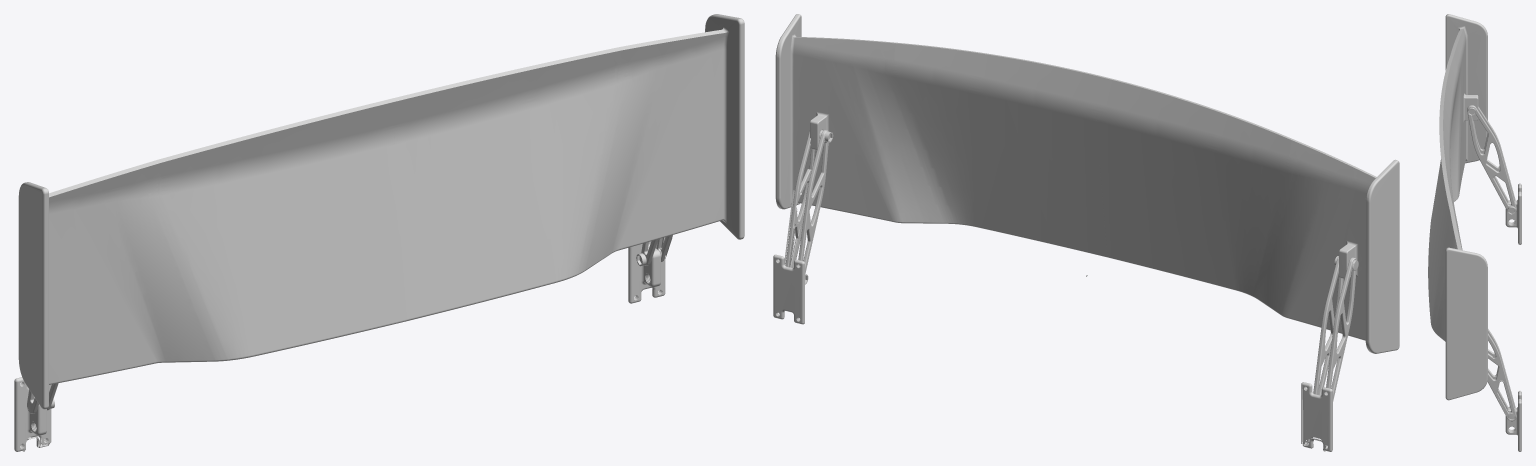
The model's file is Lambo_Red_SpoilerA.glb.
3 renders of one model, left to right at view 1: azimuth 30°, elevation 25°; view 2: azimuth 150°, elevation 25°; view 3: azimuth 270°, elevation 25°, orthographic. The views are drawn at different scales.
Parts seen in each view (by area): view 1: Object_3, Object_2; view 2: Object_3, Object_4, Object_2; view 3: Object_3, Object_2, Object_4.
Part boxes in pixels (bbox=[...]): Object_3: bbox=[14, 14, 744, 451]; Object_2: bbox=[20, 237, 664, 451]; Object_3: bbox=[775, 14, 1399, 451]; Object_4: bbox=[773, 131, 815, 323]; Object_2: bbox=[774, 130, 1358, 451]; Object_3: bbox=[1428, 14, 1521, 420]; Object_2: bbox=[1467, 107, 1521, 451]; Object_4: bbox=[1487, 333, 1521, 451].
Bounding box in the file's own units: 1436 × 621 × 242.
Materials: 13 (9 with a texture image).
